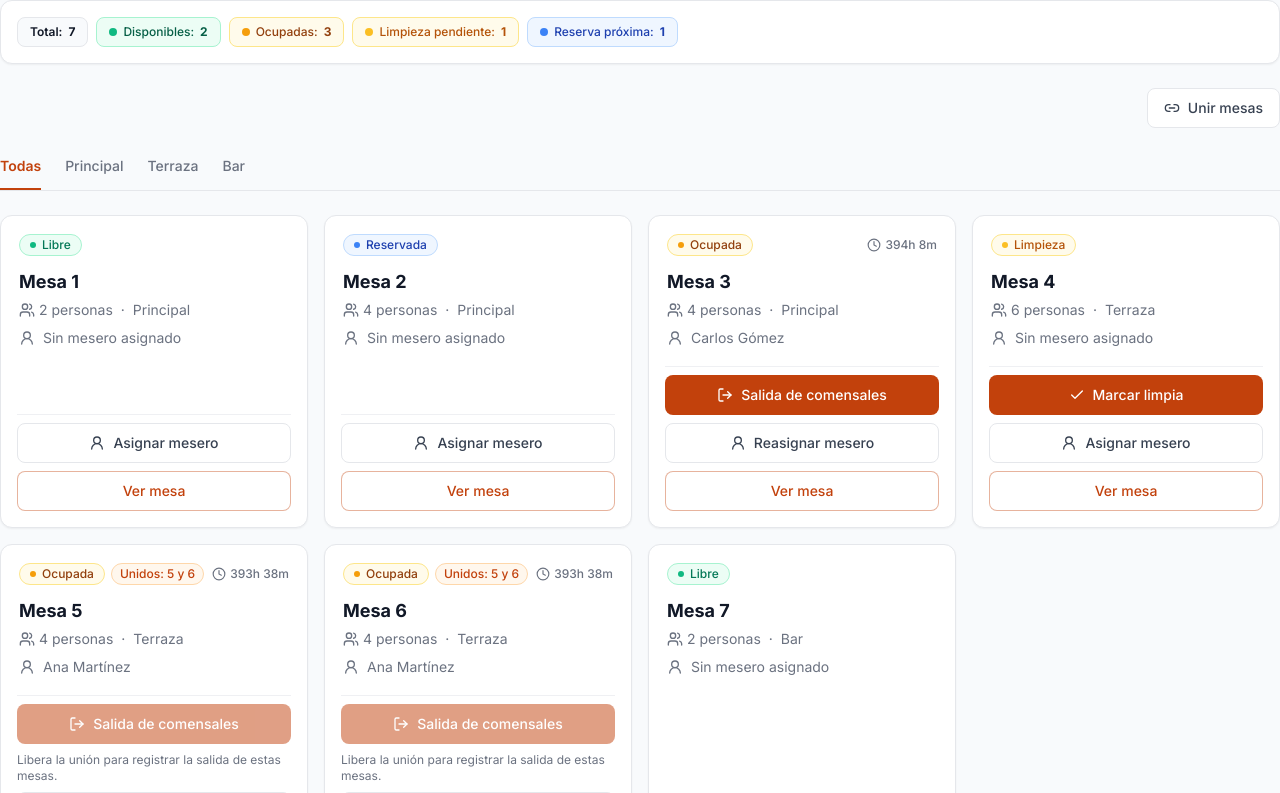
Test: PlanoSalaView Component › FE-005, RF-006: confirmar salida actualiza la card a Limpieza y ofrece marcar limpia
Step 1. Click the 1st button "Salida de comensales" → (802,395), box [665,375,939,415]
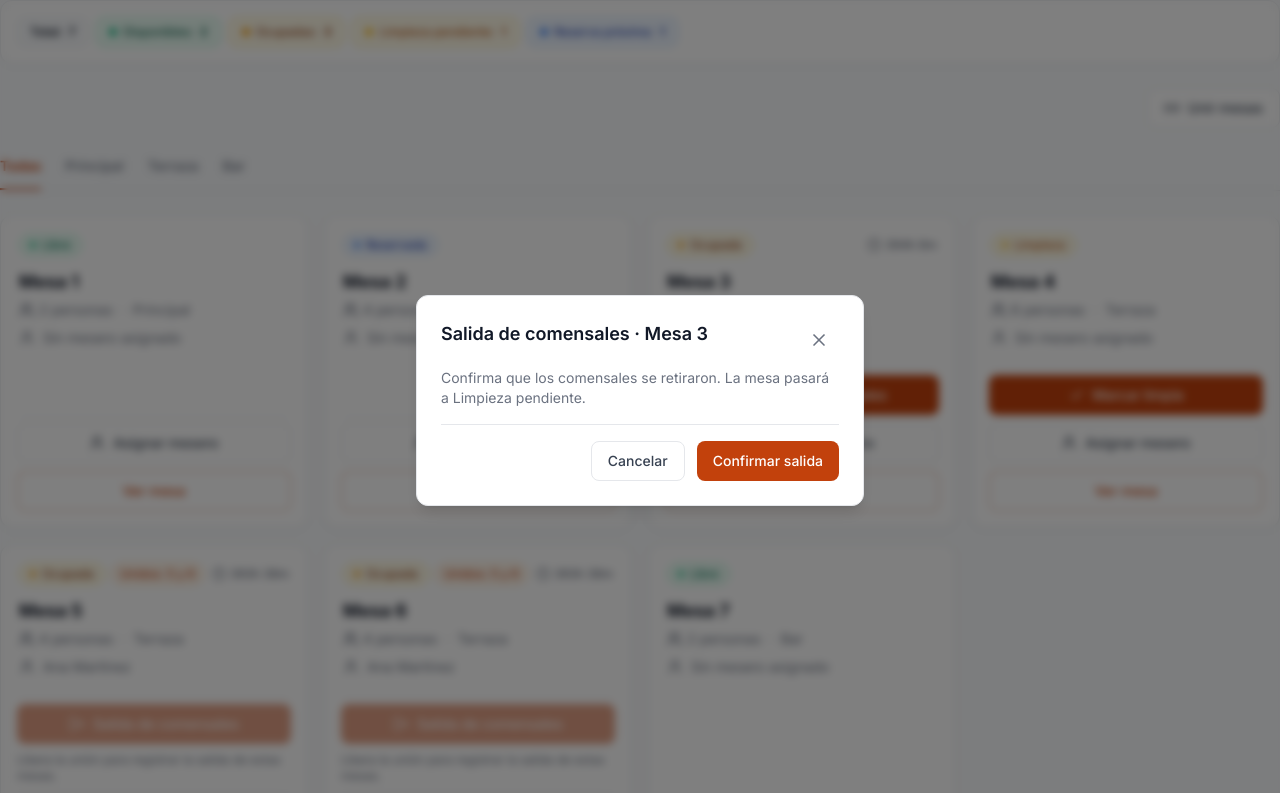
Step 2. Click the button "Confirmar salida" → (768,460), box [697,440,839,480]
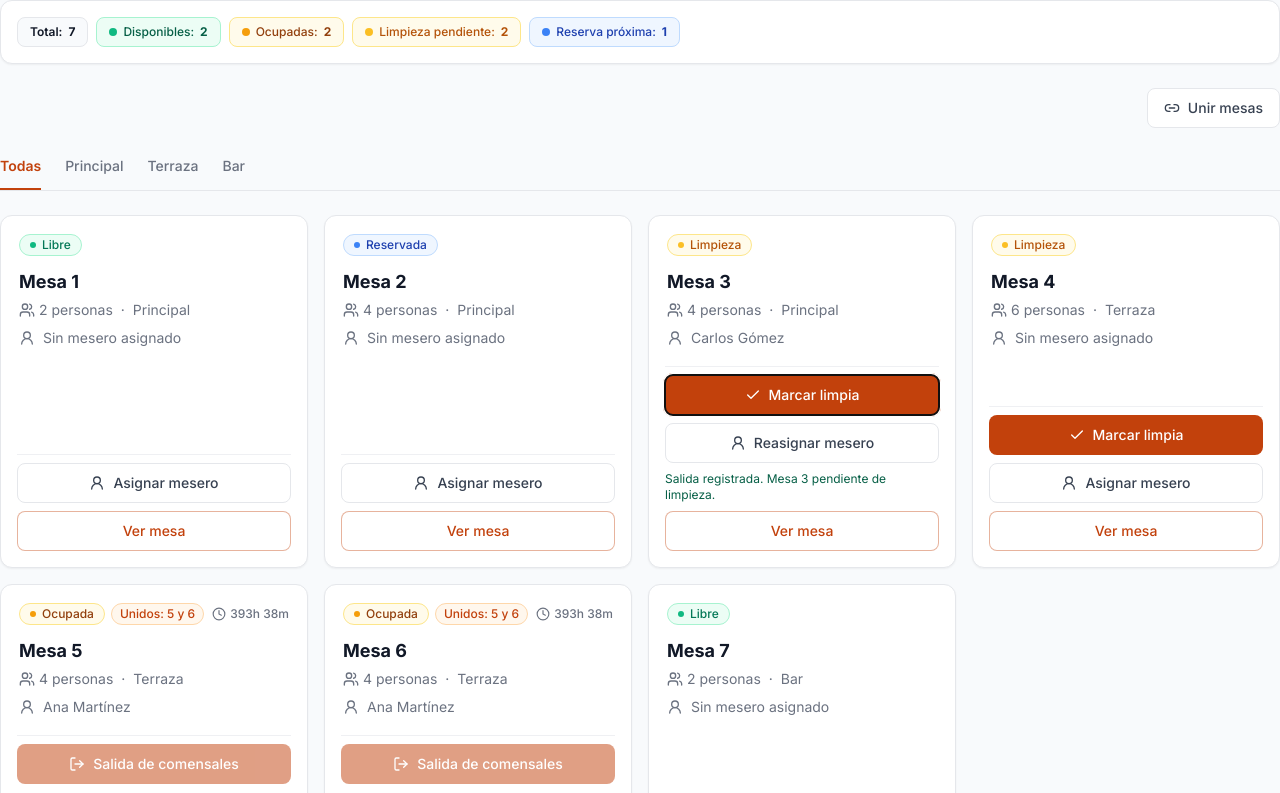
Result: the text "Limpieza" is shown at [667,234,752,256]
Result: the dialog is gone
Result: the text "394h 8m" is gone
